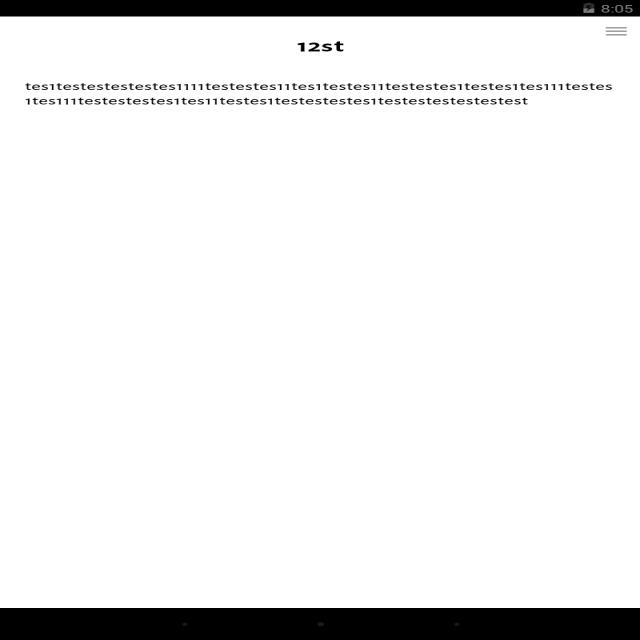TextView: (19, 76, 619, 118)
